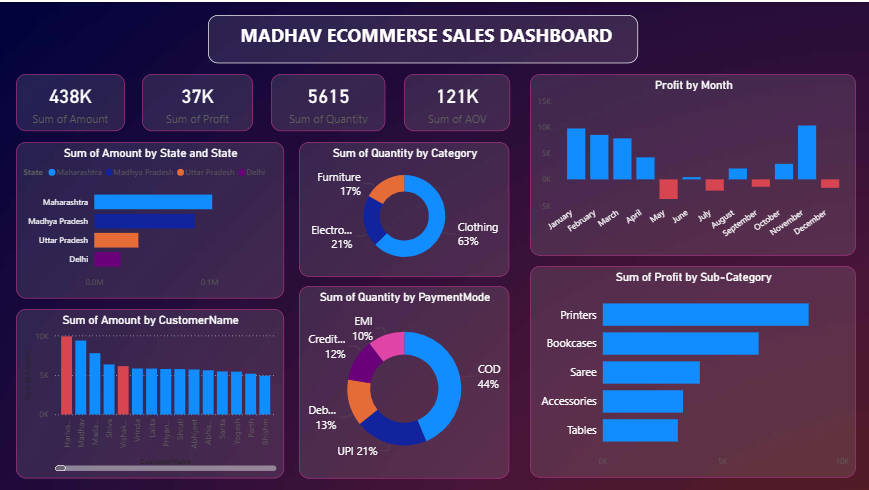

The dashboard page shown, as its layout file describes it:
{"tool":"powerbi","page":{"name":"Page 1","canvas":[1280,720],"ordinal":0},"visuals":[{"type":"textbox","box":[307.8,18.5,632.4,70.6],"z":0},{"type":"columnChart","title":"Profit by Month","fields":{"Y":["Sum(Details.Profit)"],"Category":["Orders.Order Date.Variation.Date Hierarchy.Month"]},"box":[780.4,106,479.4,267.4],"z":1000},{"type":"barChart","fields":{"Y":["Sum(Details.Profit)"],"Category":["Details.Sub-Category"]},"box":[780.4,388.5,479.4,311.2],"z":2000},{"type":"donutChart","fields":{"Category":["Details.PaymentMode"],"Y":["Sum(Details.Quantity)"]},"box":[440.7,417.1,309.5,282.6],"z":3000},{"type":"donutChart","fields":{"Category":["Details.Category"],"Y":["Sum(Details.Quantity)"]},"box":[440.7,205.2,309.5,198.5],"z":4000},{"type":"card","fields":{"Values":["Sum(Details.Amount)"]},"box":[25.2,106,159.8,84.1],"z":5000},{"type":"card","fields":{"Values":["Sum(Details.Profit)"]},"box":[210.2,106,163.2,84.1],"z":6000},{"type":"card","fields":{"Values":["Sum(Details.AOV)"]},"box":[595.4,106,156.4,84.1],"z":7000},{"type":"card","fields":{"Values":["Sum(Details.Quantity)"]},"box":[400.3,106,168.2,84.1],"z":8000},{"type":"barChart","fields":{"Y":["Sum(Details.Amount)"],"Category":["Orders.State"],"Series":["Orders.State"]},"box":[25.2,205.2,393.6,230.4],"z":8001},{"type":"columnChart","fields":{"Category":["Orders.CustomerName"],"Y":["Sum(Details.Amount)"]},"box":[25.2,450.8,393.6,248.9],"z":8002}]}

Visuals, with their boxes in screenshot pixels (x1, y1, x2, y2), scaled from the page's 1280x720 canvas onto the 869x490 screenshot:
textbox: Rect(209, 13, 638, 61)
"Profit by Month" columnChart: Rect(530, 72, 855, 254)
barChart - Sum(Details.Profit) x Details.Sub-Category: Rect(530, 264, 855, 476)
donutChart - Details.PaymentMode x Sum(Details.Quantity): Rect(299, 284, 509, 476)
donutChart - Details.Category x Sum(Details.Quantity): Rect(299, 140, 509, 275)
card - Sum(Details.Amount): Rect(17, 72, 126, 129)
card - Sum(Details.Profit): Rect(143, 72, 254, 129)
card - Sum(Details.AOV): Rect(404, 72, 510, 129)
card - Sum(Details.Quantity): Rect(272, 72, 386, 129)
barChart - Sum(Details.Amount) x Orders.State: Rect(17, 140, 284, 296)
columnChart - Orders.CustomerName x Sum(Details.Amount): Rect(17, 307, 284, 476)
